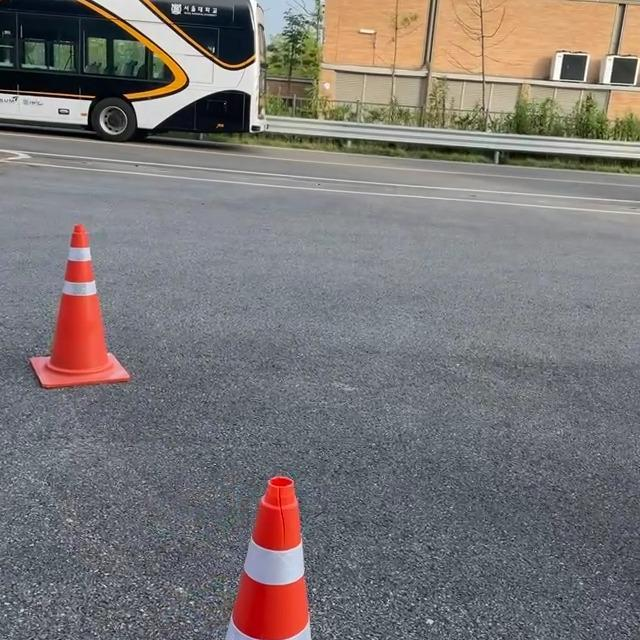fallen_object: (197, 481, 407, 640), (20, 197, 123, 391)
